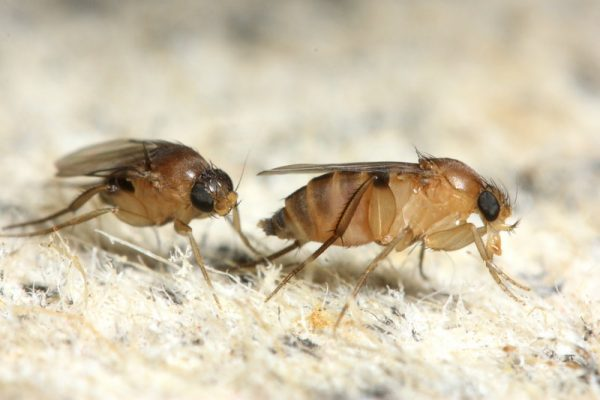phorid fly: (252, 131, 546, 334), (3, 119, 251, 309)
